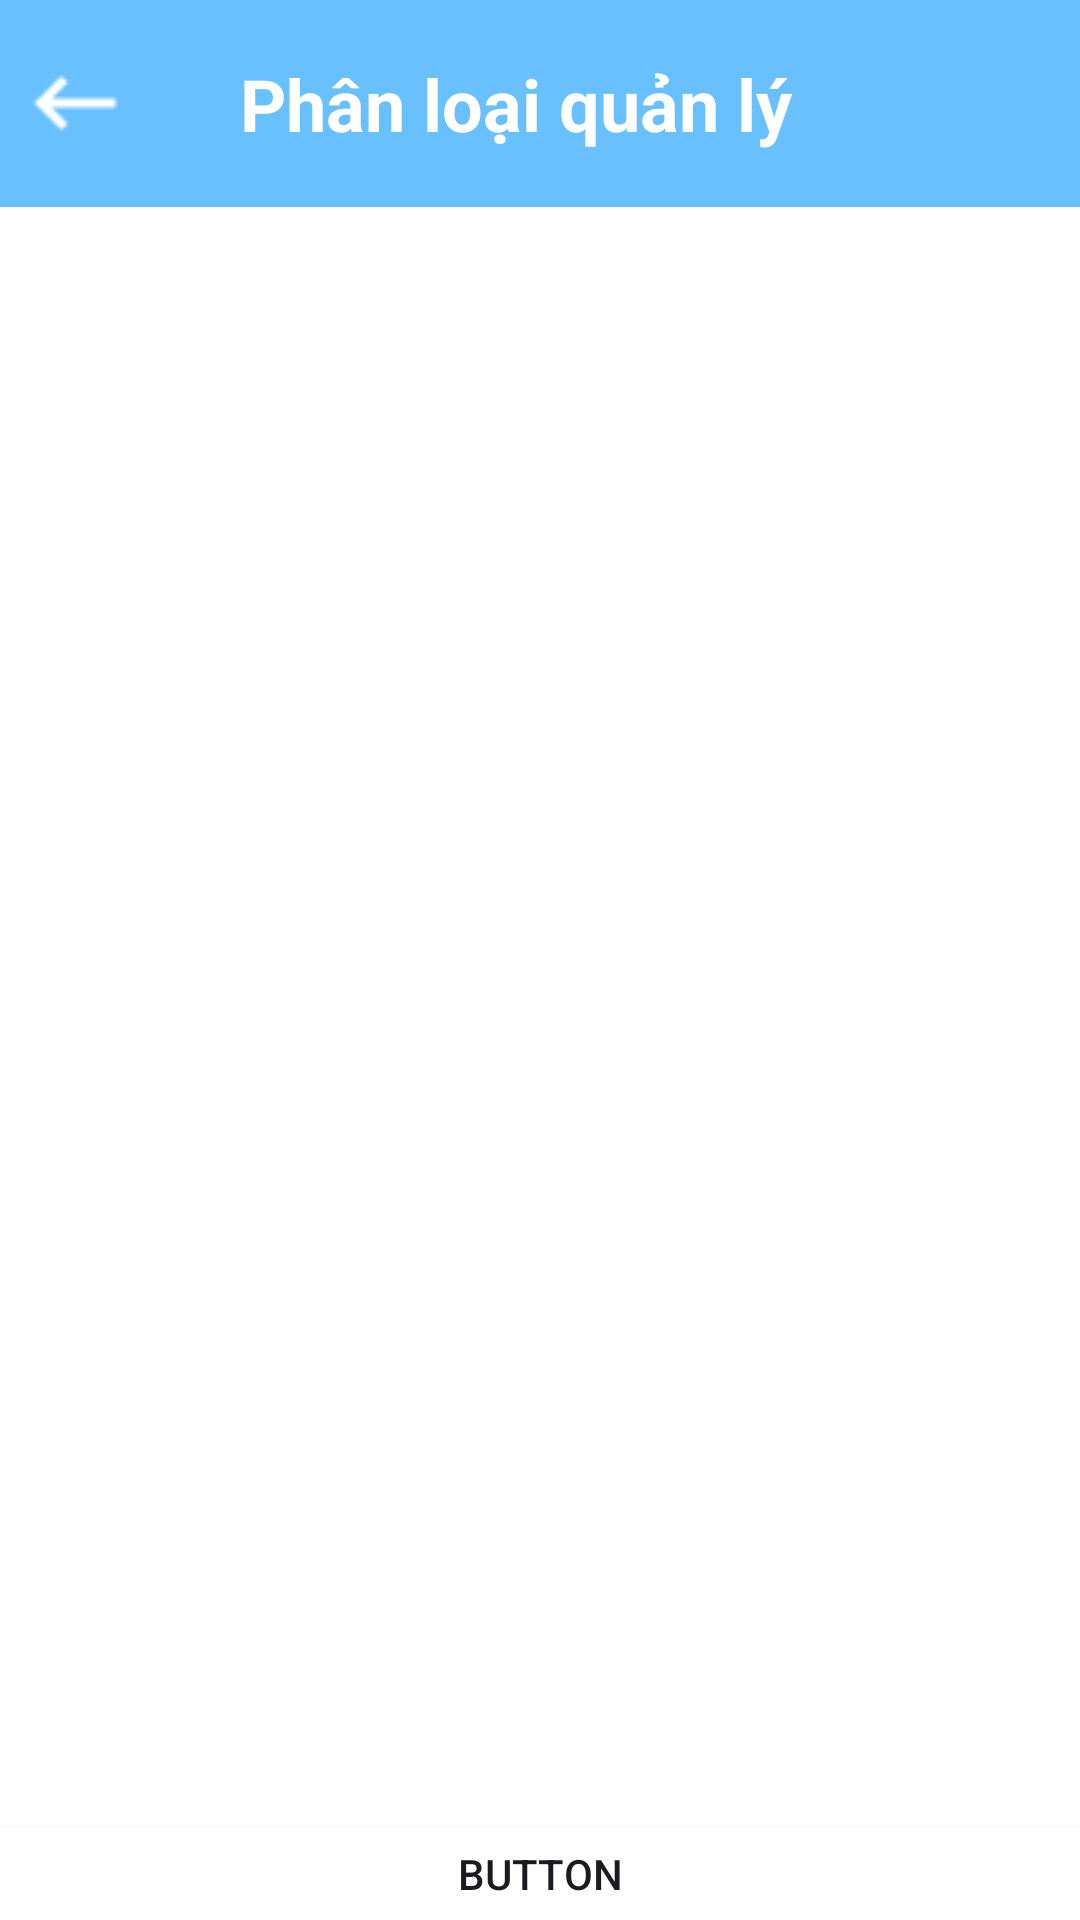

Locate icon controls on the screen. Image size 1080px x 1920px, boxes as (x1, y1, x2, y2).
quaylai: (34, 75, 118, 131)
